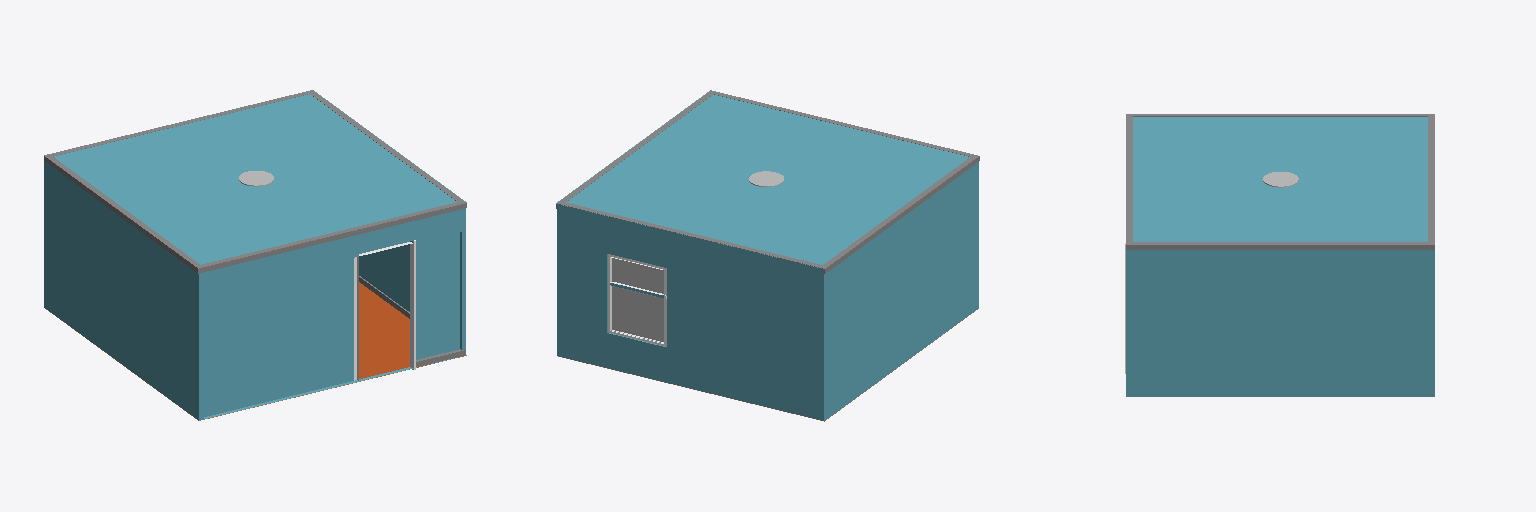
Rendered from bedroomblue.obj.
3 views of the same model, side by side, from view 1: azimuth 30°, elevation 25°; view 2: azimuth 150°, elevation 25°; view 3: azimuth 270°, elevation 25° (orthographic).
Parts seen in each view (by area): view 1: Plane.002_Plane.003, Cube.001_Cube.004, Cube.002_Cube.008, Plane_Plane.001, Cube.003_Cube.007, Cube.013_Cube.018, Cube.004_Cube.009, Cube.006_Cube.011, Cube.005_Cube.010; view 2: Plane.002_Plane.003, Cube_Cube.003, Cube.002_Cube.008, Plane.001_Plane.002, Cube.004_Cube.009, Cube.013_Cube.018, Cube.006_Cube.011, Cube.005_Cube.010, Cube.003_Cube.007; view 3: Cube.003_Cube.007, Plane.002_Plane.003, Cube.005_Cube.010, Cube.004_Cube.009, Cube.013_Cube.018, Cube.006_Cube.011.
Part boxes in pixels (left/top/right/bottom): Plane.002_Plane.003: left=54, top=90, right=466, bottom=264; Cube.001_Cube.004: left=199, top=209, right=465, bottom=420; Cube.002_Cube.008: left=44, top=161, right=203, bottom=420; Plane_Plane.001: left=46, top=282, right=466, bottom=420; Cube.003_Cube.007: left=359, top=231, right=465, bottom=356; Cube.013_Cube.018: left=199, top=201, right=466, bottom=272; Cube.004_Cube.009: left=44, top=154, right=202, bottom=273; Cube.006_Cube.011: left=45, top=90, right=312, bottom=157; Cube.005_Cube.010: left=308, top=90, right=465, bottom=203; Plane.002_Plane.003: left=557, top=90, right=969, bottom=267; Cube_Cube.003: left=561, top=205, right=819, bottom=419; Cube.002_Cube.008: left=819, top=162, right=978, bottom=420; Plane.001_Plane.002: left=612, top=258, right=663, bottom=341; Cube.004_Cube.009: left=820, top=156, right=979, bottom=273; Cube.013_Cube.018: left=709, top=90, right=977, bottom=157; Cube.006_Cube.011: left=559, top=201, right=822, bottom=267; Cube.005_Cube.010: left=556, top=91, right=712, bottom=208; Cube.003_Cube.007: left=557, top=204, right=561, bottom=356; Cube.003_Cube.007: left=1126, top=250, right=1434, bottom=396; Plane.002_Plane.003: left=1133, top=117, right=1427, bottom=241; Cube.005_Cube.010: left=1126, top=242, right=1434, bottom=249; Cube.004_Cube.009: left=1126, top=114, right=1434, bottom=116; Cube.013_Cube.018: left=1126, top=116, right=1132, bottom=242; Cube.006_Cube.011: left=1428, top=116, right=1434, bottom=241.
Bounding box in the file's own units: 10.06 × 5.52 × 10.04.